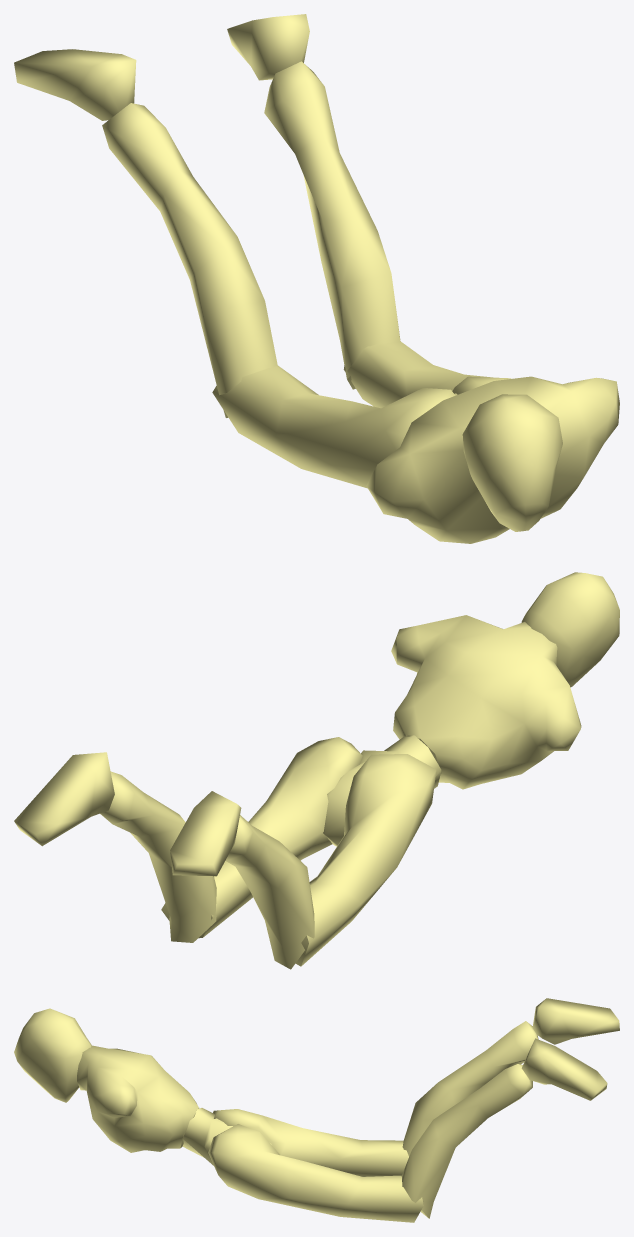
File: filth33.obj
The picture shows the model from 3 angles, top to bottom: view 1: azimuth 30°, elevation 25°; view 2: azimuth 150°, elevation 25°; view 3: azimuth 270°, elevation 25°; orthographic projection. The views are drawn at different scales.
Parts seen in each view (by area): view 1: Melee_Husk; view 2: Melee_Husk; view 3: Melee_Husk.
Boxes of the visible parts, box(x1,y1,x2,y2) form: Melee_Husk: box(14, 14, 619, 543); Melee_Husk: box(14, 572, 619, 969); Melee_Husk: box(14, 998, 619, 1222).
Bounding box in the file's own units: 26.14 × 25.37 × 76.58.
